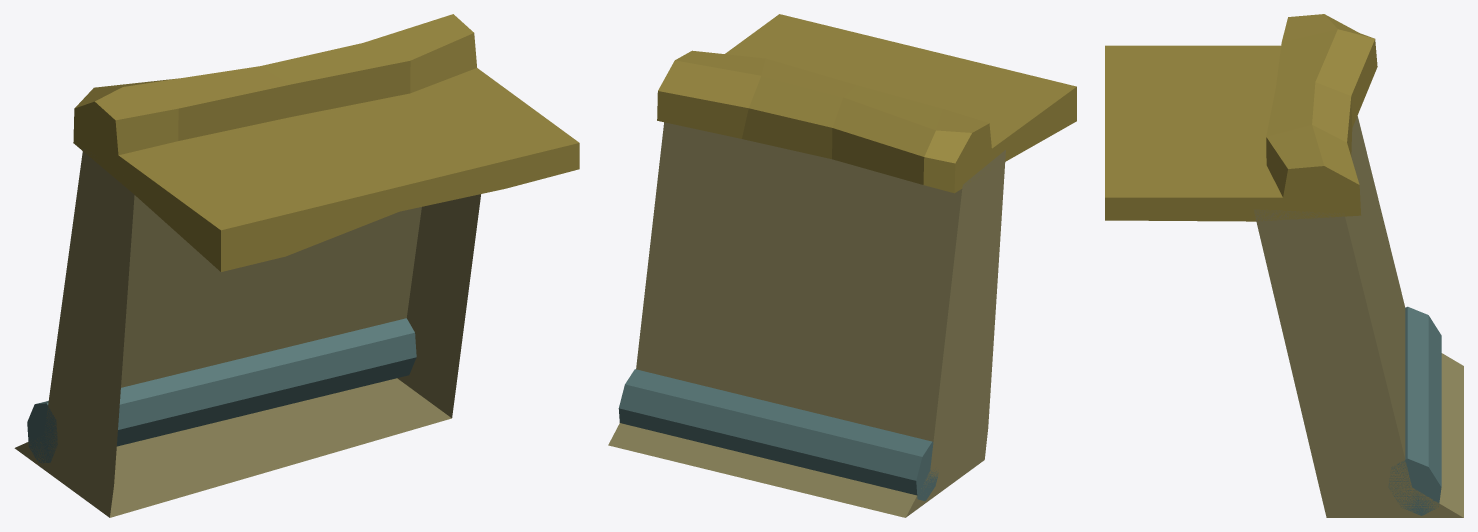
Rendered from Int_2_Wall_Hor_Mid.fbx.
3 renders of one model, left to right at view 1: azimuth 30°, elevation 25°; view 2: azimuth 150°, elevation 25°; view 3: azimuth 270°, elevation 25°, orthographic. The views are drawn at different scales.
Visible parts, largest first — view 1: Int_2_Wall_Hor_Mid1; view 2: Int_2_Wall_Hor_Mid1; view 3: Int_2_Wall_Hor_Mid1.
Boxes of the visible parts, x1,y1,x2,y2 form: Int_2_Wall_Hor_Mid1: (14, 14, 579, 517); Int_2_Wall_Hor_Mid1: (608, 14, 1076, 517); Int_2_Wall_Hor_Mid1: (1105, 14, 1463, 517).
Bounding box in the file's own units: 0.9986 × 1.08 × 0.9964.
